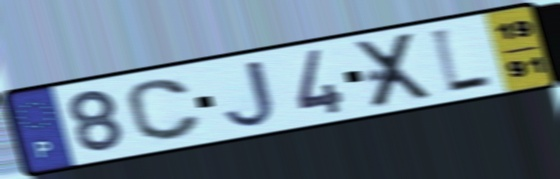4: (292, 46, 347, 118)
8: (66, 88, 127, 154)
C: (122, 76, 205, 144)
J: (221, 57, 280, 132)
L: (426, 26, 497, 98)
X: (351, 28, 438, 112)
